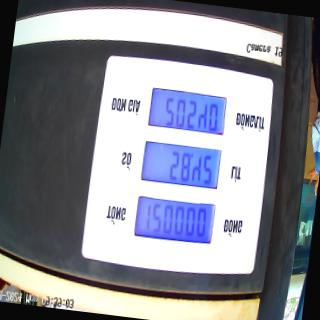screen: (131, 82, 232, 252)
